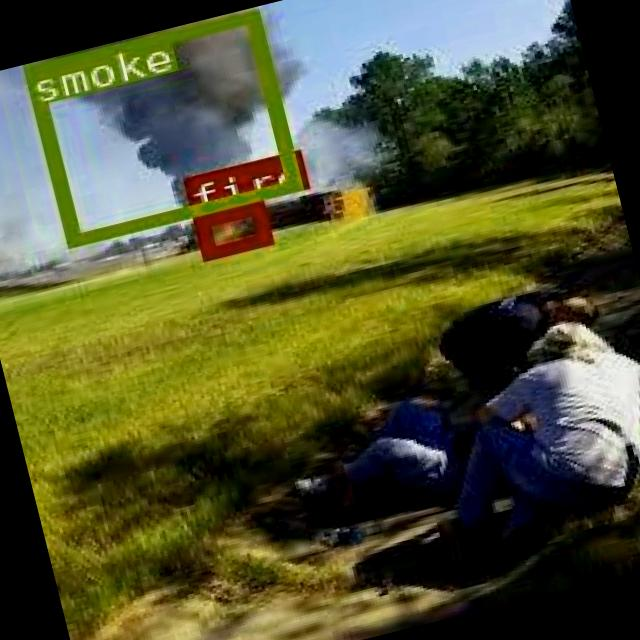fire: (192, 200, 268, 258)
smoke: (19, 7, 298, 246)
